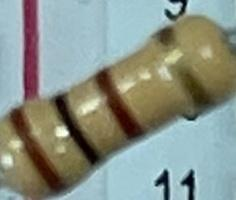Black: (51, 90, 105, 170)
Brown: (88, 66, 148, 147)
Green: (5, 102, 70, 199)
Side-Gold: (151, 23, 221, 119)
